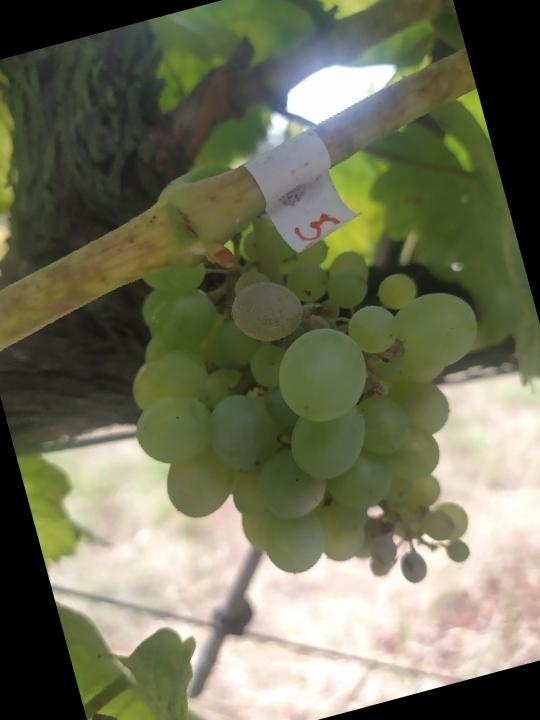grape: (88, 176, 540, 646)
